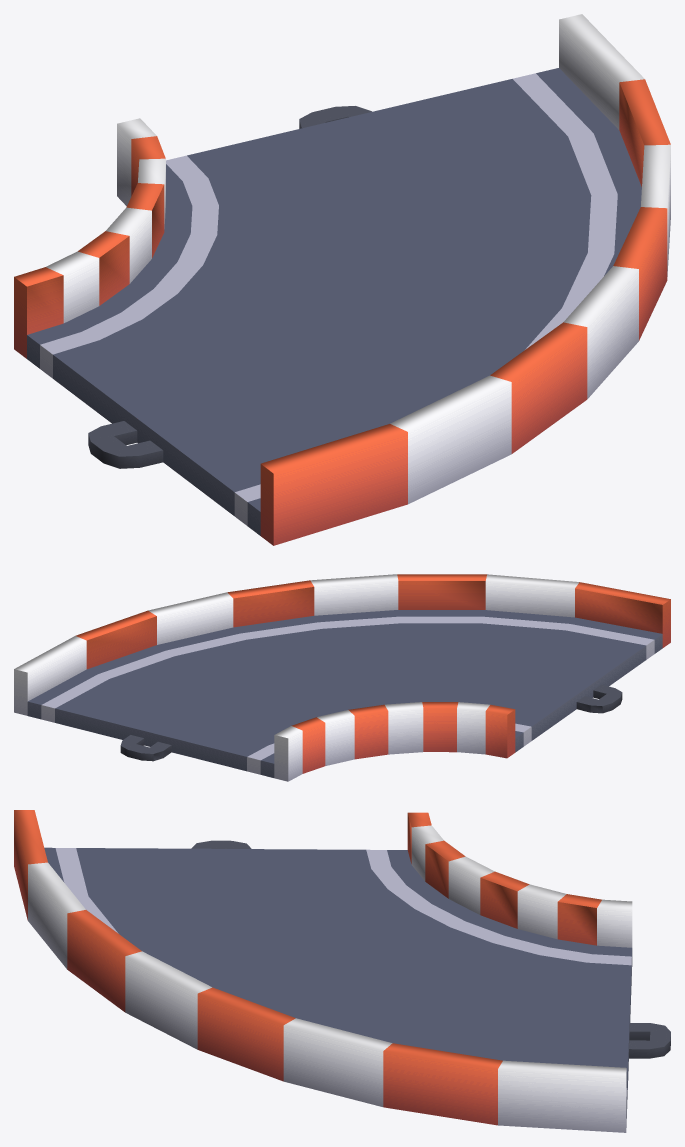
The model's file is track-road-wide-corner-small.004.001_lev2.glb.
3 views of the same model, one above another, from view 1: azimuth 30°, elevation 25°; view 2: azimuth 150°, elevation 25°; view 3: azimuth 270°, elevation 25° (orthographic). The views are drawn at different scales.
Visible parts, largest first — view 1: track-road-wide-corner-small.004.001_lev2; view 2: track-road-wide-corner-small.004.001_lev2; view 3: track-road-wide-corner-small.004.001_lev2.
Boxes of the visible parts, x1,y1,x2,y2 form: track-road-wide-corner-small.004.001_lev2: (14,14,670,545); track-road-wide-corner-small.004.001_lev2: (14,574,670,781); track-road-wide-corner-small.004.001_lev2: (14,810,670,1132).
Bounding box in the file's own units: 3.23 × 0.3 × 3.17.
1 material, 1 textured.
